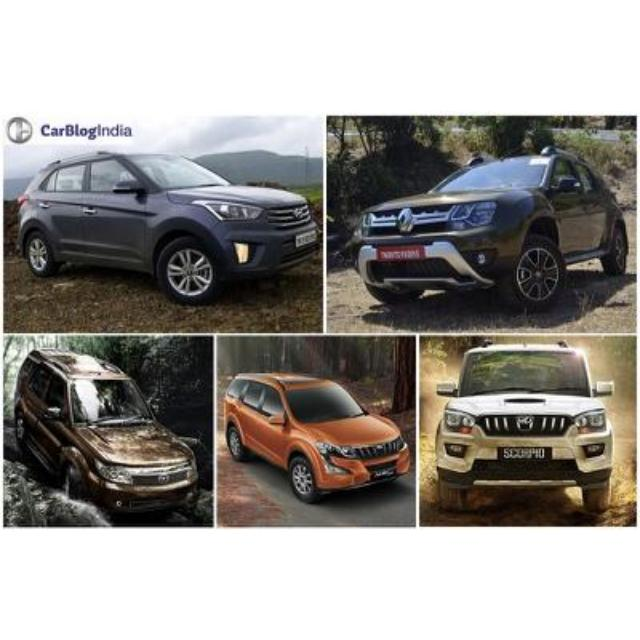car: (16, 148, 320, 306), (349, 146, 631, 310), (12, 348, 200, 518), (434, 342, 616, 512), (224, 371, 410, 502)
plate: (492, 440, 552, 464), (363, 466, 405, 478)
